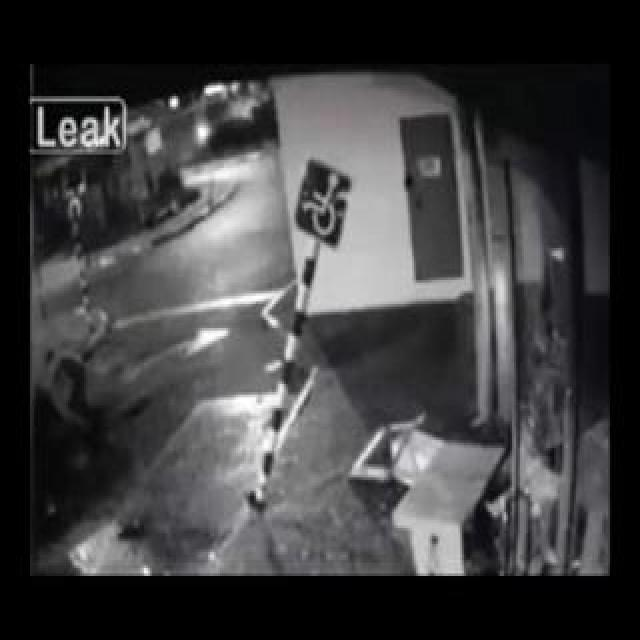thief: (40, 331, 94, 420)
